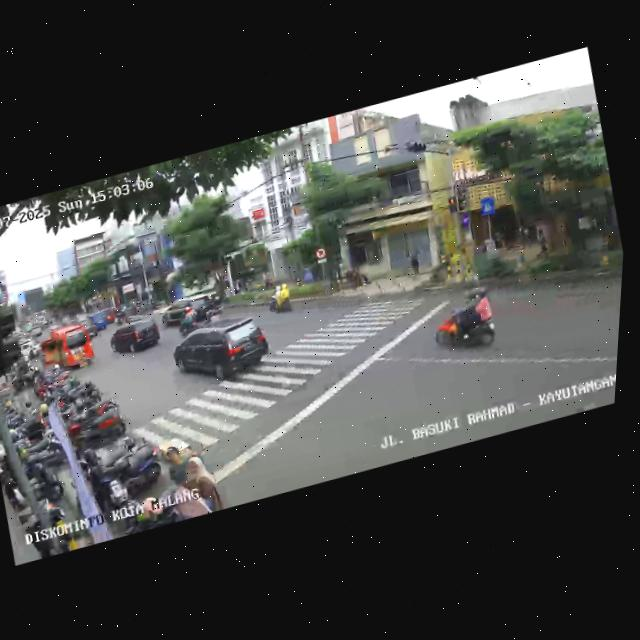car: (166, 307, 279, 395), (37, 322, 99, 380), (158, 290, 223, 336), (106, 314, 166, 363), (86, 307, 115, 333)
motorcycle: (426, 285, 505, 363), (263, 278, 299, 318), (175, 308, 199, 337)
person: (176, 448, 225, 517), (161, 441, 196, 488)
